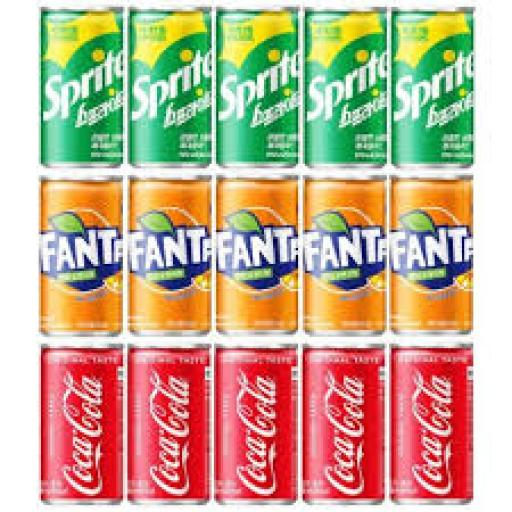Coca: (34, 338, 126, 510), (388, 342, 479, 510), (212, 342, 300, 508), (128, 342, 214, 510), (304, 343, 388, 510)
